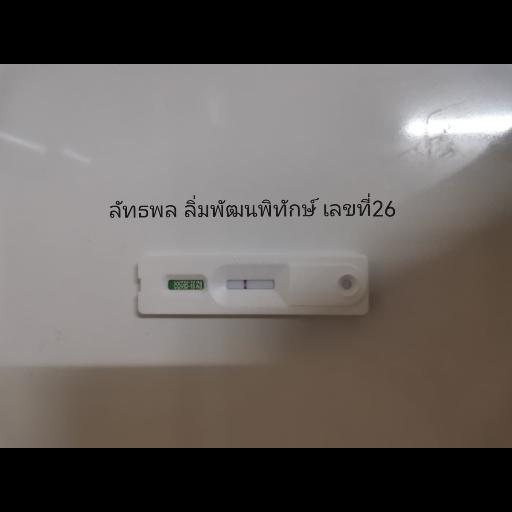Neg: (136, 254, 368, 316)
